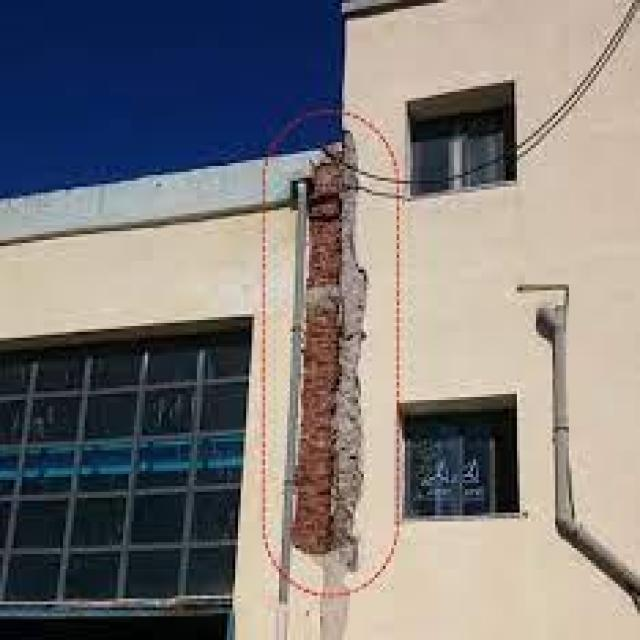damage: (274, 133, 390, 592)
